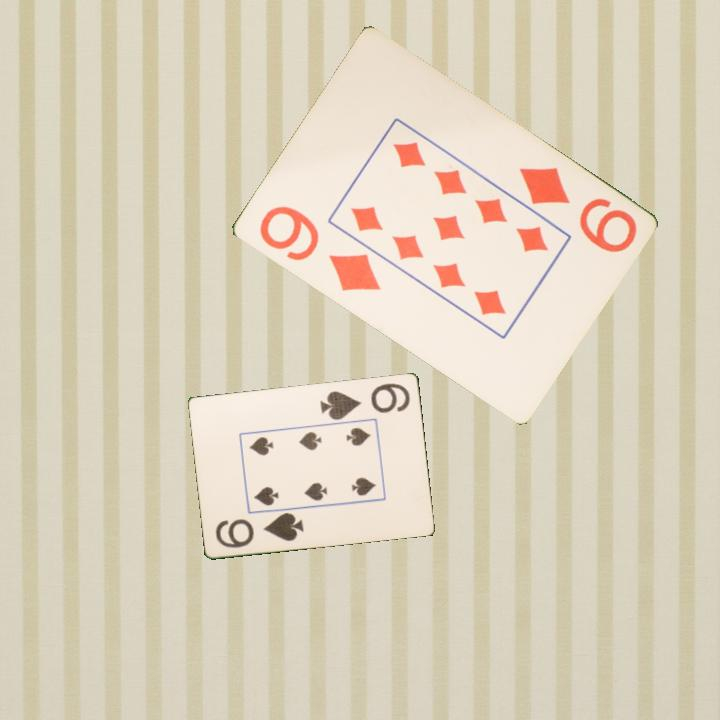6s: (317, 379, 413, 422), (212, 509, 307, 551)
9d: (255, 202, 383, 295), (515, 163, 640, 256)
